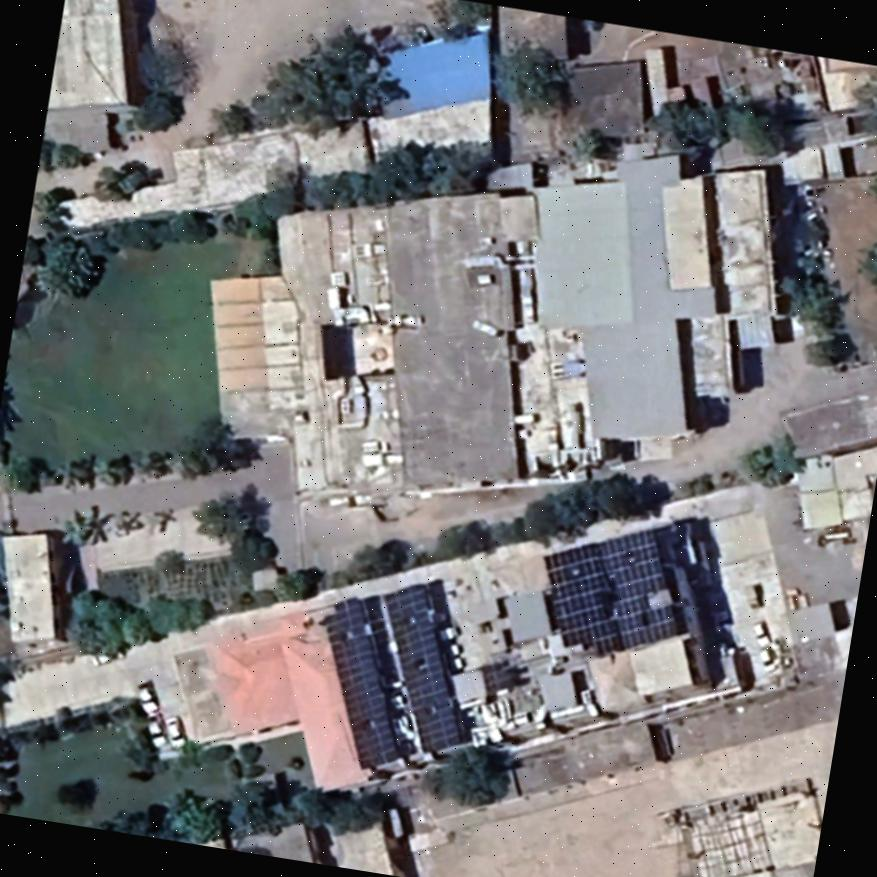Solarpanel: (541, 519, 691, 670), (313, 591, 413, 777), (378, 581, 470, 763)
